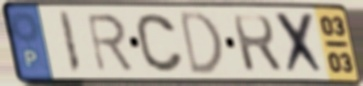C: (134, 12, 187, 75)
D: (177, 9, 226, 78)
I: (56, 9, 84, 76)
R: (230, 13, 286, 75), (84, 11, 137, 74)
X: (272, 10, 329, 78)
